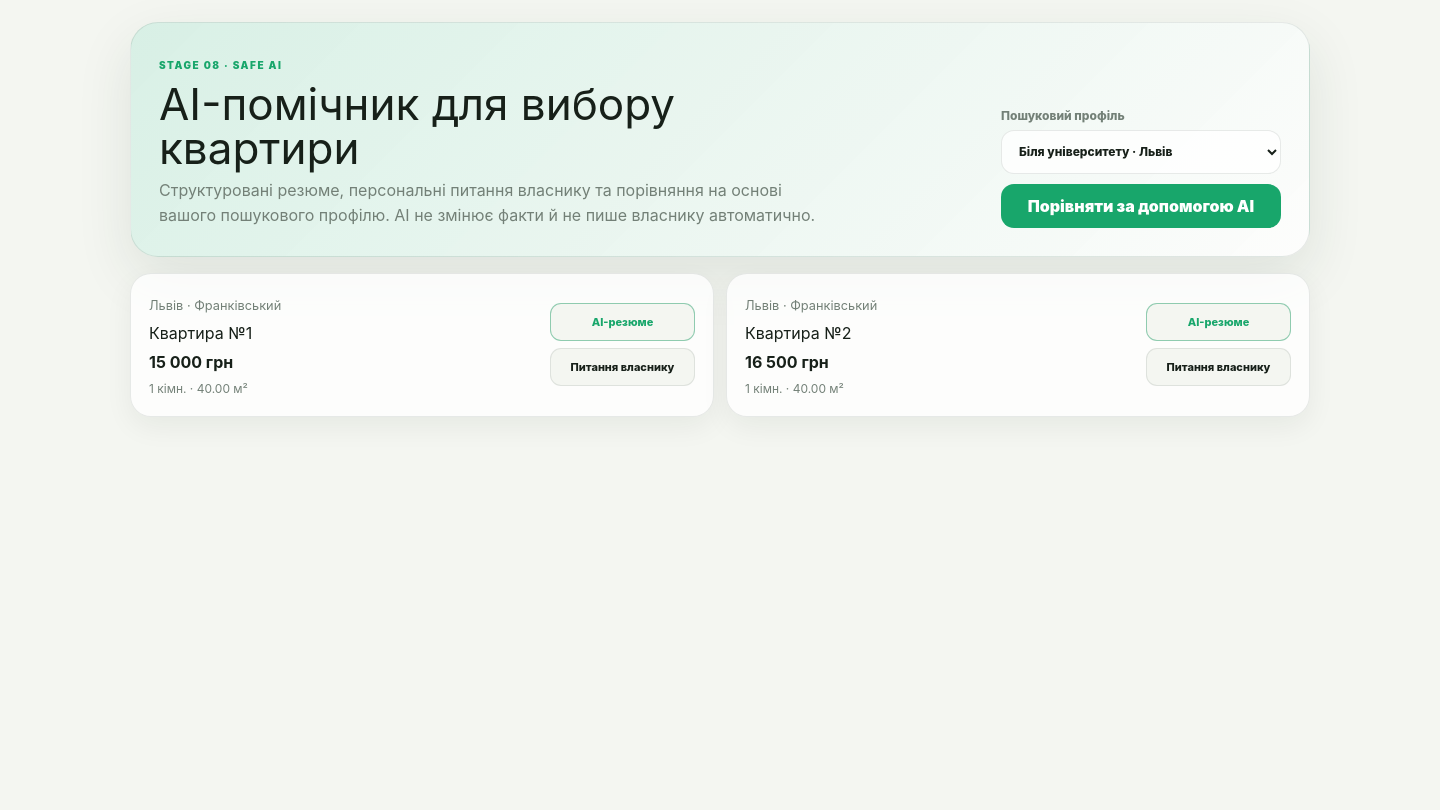
Scenario: AIAssistantWorkspace › generates profile-aware owner questions and copy-ready text
This screenshot has width=1440, height=810.
Expected: the heading "Квартира №1" is shown, [149, 323, 252, 343]
Click the button "Питання власнику" in the row of "15 000 грн". click: (622, 367)
box: [550, 348, 695, 386]
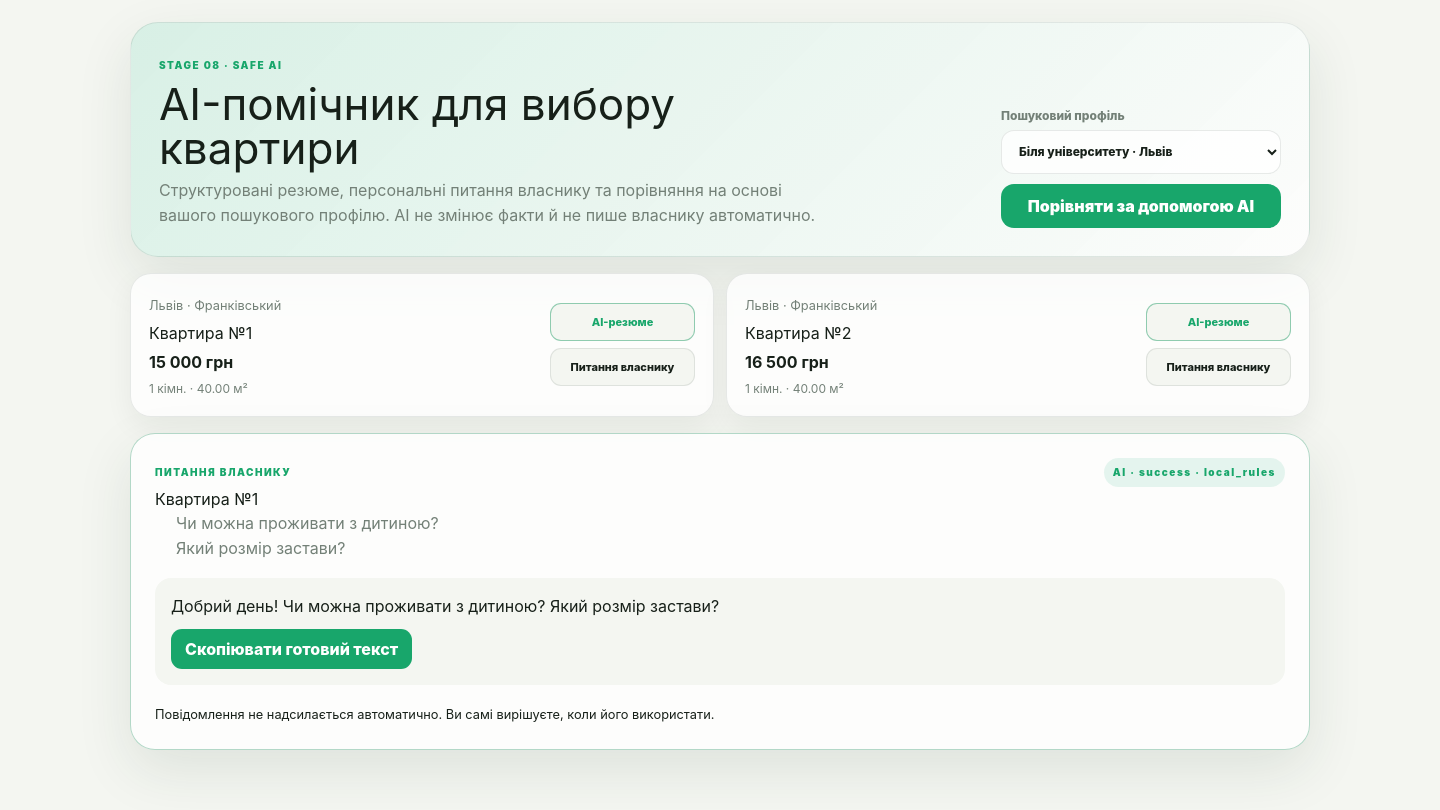
Expected: the list item "Чи можна проживати з дитиною?" is shown, [176, 513, 439, 533]
Expected: the text "Добрий день!" is shown, [171, 596, 719, 616]
